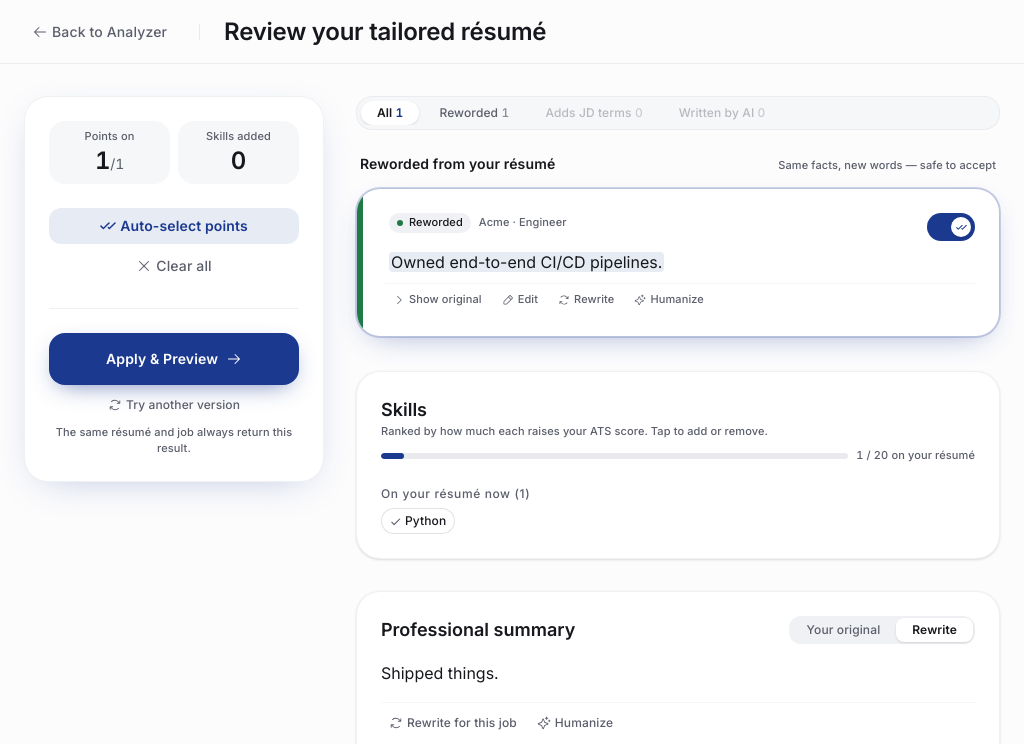
it: Studio review page › shows an error on the point when its rewrite fails, instead of doing nothing
Click the button "Rewrite" below "Owned end-to-end CI/CD pipelines." at (586, 300), box [550,288,622,312]
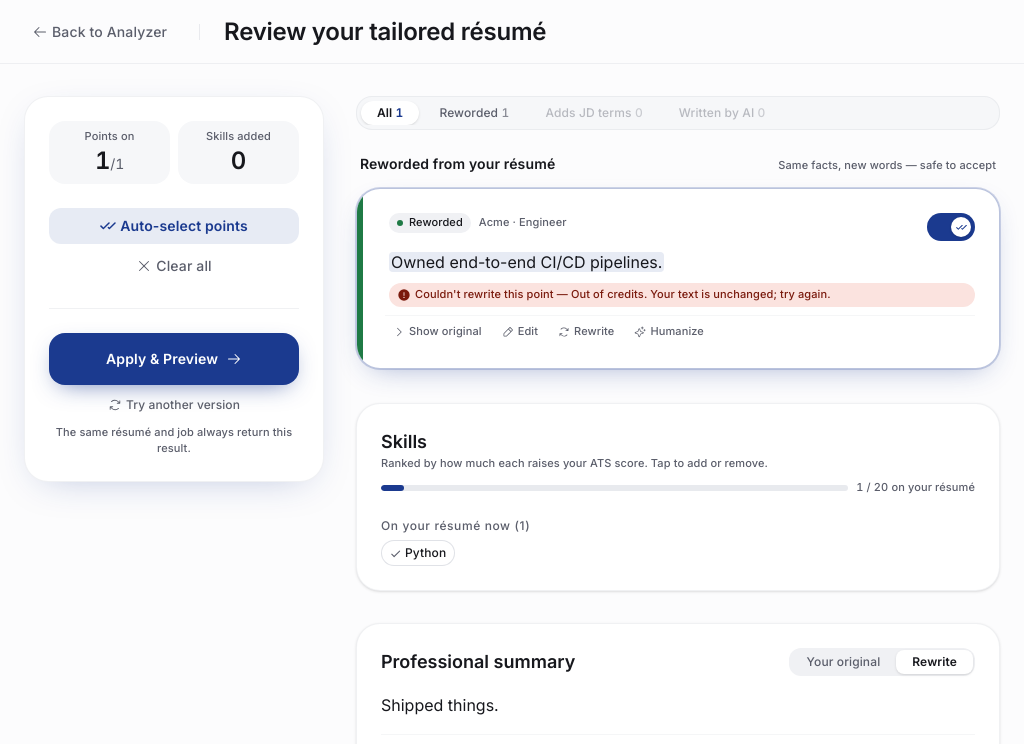
Expected: the message shows "Couldn't rewrite this point — Out of credits", [415,287,831,301]
